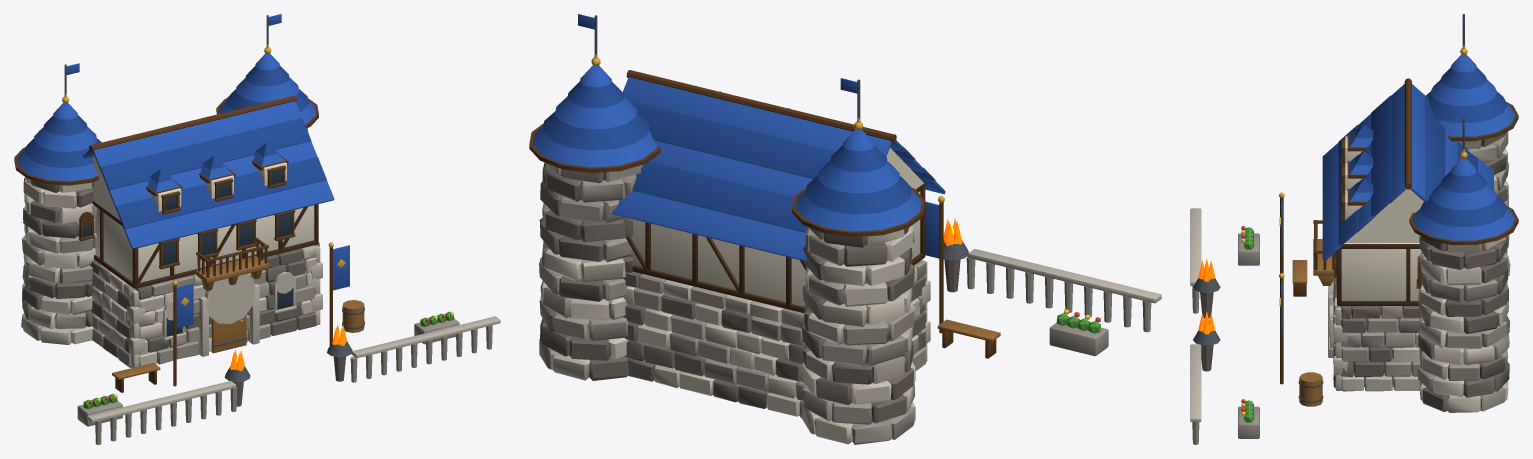
The model's file is budynek_glowny_poz15.glb.
The picture shows the model from 3 angles, left to right: view 1: azimuth 30°, elevation 25°; view 2: azimuth 150°, elevation 25°; view 3: azimuth 270°, elevation 25°; orthographic projection. The views are drawn at different scales.
Visible parts, largest first — view 1: budynek_glowny_poz15; view 2: budynek_glowny_poz15; view 3: budynek_glowny_poz15.
Boxes of the visible parts, <box> form: budynek_glowny_poz15: <box>14,14,500,444</box>; budynek_glowny_poz15: <box>529,14,1161,444</box>; budynek_glowny_poz15: <box>1190,14,1518,444</box>.
Size of the model in its own units: 13.6 by 8.37 by 8.98.
